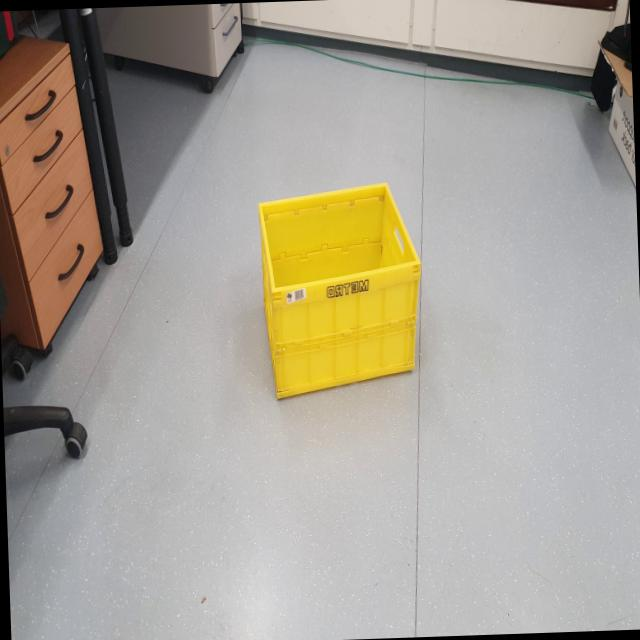box: (248, 164, 435, 408)
